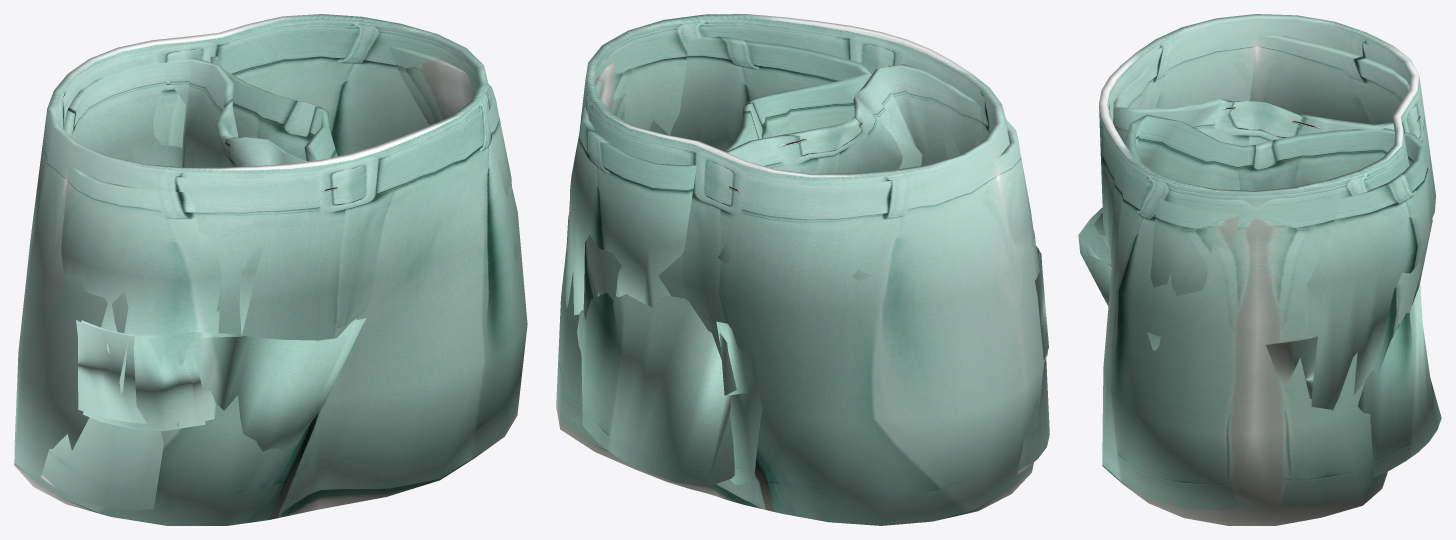
The model's file is 661dbcbb-d3fe-44a5-b144-e87ae64494e8.glb.
3 views of the same model, side by side, from view 1: azimuth 30°, elevation 25°; view 2: azimuth 150°, elevation 25°; view 3: azimuth 270°, elevation 25° (orthographic). The views are drawn at different scales.
Parts seen in each view (by area): view 1: garment_leg0; view 2: garment_leg0; view 3: garment_leg0.
Boxes of the visible parts, left/top/right/bottom form: garment_leg0: left=14, top=14, right=527, bottom=525; garment_leg0: left=556, top=14, right=1049, bottom=525; garment_leg0: left=1078, top=14, right=1441, bottom=525.
Size of the model in its own units: 0.4227 by 0.3242 by 0.3108.
Materials: 1 (1 with a texture image).
